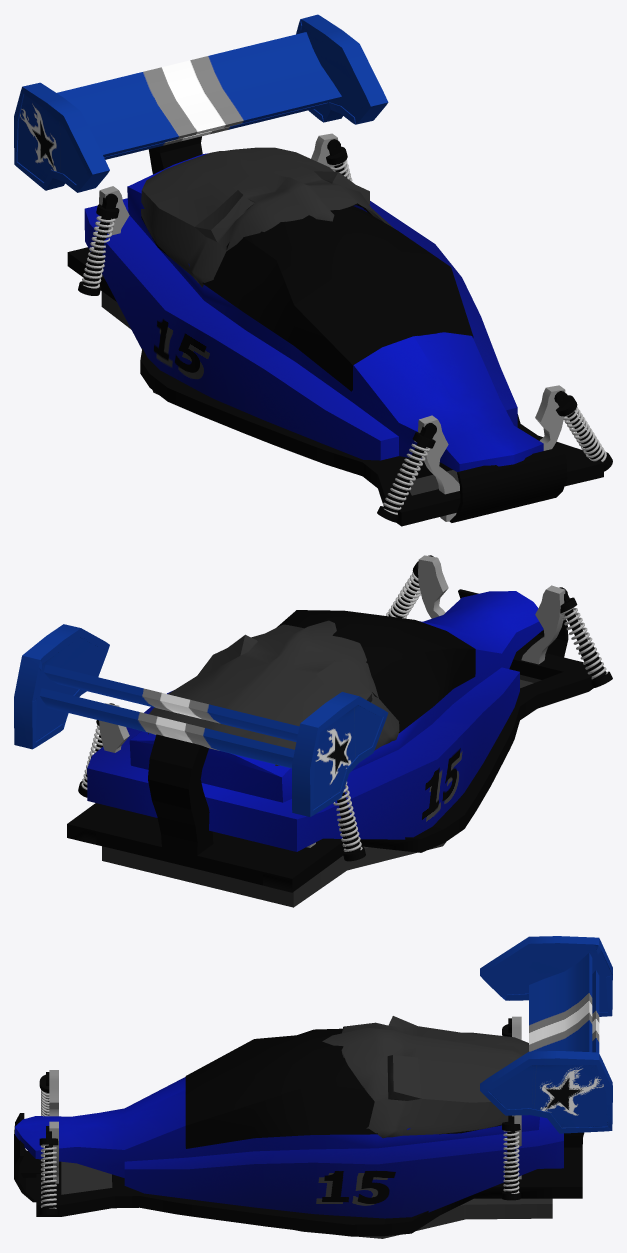
File: bluetop.dae
The picture shows the model from 3 angles, top to bottom: view 1: azimuth 30°, elevation 25°; view 2: azimuth 150°, elevation 25°; view 3: azimuth 270°, elevation 25°; orthographic projection. The views are drawn at different scales.
Visible parts, largest first — view 1: Superficie_1, Aleron, Superficie_2, Carroceria, Aleron_izquierdo1, Defensa, Aleron_izquierdo, Aleron_derecho, RS_1_6, RS_2_6, Resorte_1, Resorte_3 (+2 smaller); view 2: Superficie_1, Carroceria, Superficie_2, Aleron_izquierdo1, Aleron_derecho, Tapa, Aleron, RS_1_6, RS_2_6, Aleron_izquierdo, Resorte_1, Resorte_3 (+3 smaller); view 3: Superficie_1, Superficie_2, Carroceria, Aleron_izquierdo, Aleron_derecho, Aleron_izquierdo1, Aleron, Tapa, Defensa, Resorte_4, Resorte_2, RS_1_6.
Part boxes in pixels (x1,y1,x2,y2): Superficie_1: (84, 153, 543, 471); Aleron: (57, 32, 341, 156); Superficie_2: (141, 147, 393, 287); Carroceria: (67, 102, 603, 526); Aleron_izquierdo1: (14, 82, 109, 192); Defensa: (449, 447, 567, 522); Aleron_izquierdo: (296, 19, 388, 124); Aleron_derecho: (297, 14, 384, 123); RS_1_6: (418, 415, 459, 521); RS_2_6: (535, 385, 565, 450); Resorte_1: (383, 440, 429, 514); Resorte_3: (82, 216, 115, 288); Superficie_1: (87, 591, 543, 851); Carroceria: (40, 648, 593, 892); Superficie_2: (148, 620, 399, 765); Aleron_izquierdo1: (292, 692, 388, 816); Aleron_derecho: (14, 624, 109, 749); Tapa: (102, 674, 541, 907); Aleron: (44, 664, 299, 741); RS_1_6: (521, 585, 565, 664); RS_2_6: (418, 555, 448, 618); Aleron_izquierdo: (14, 624, 106, 748); Resorte_1: (561, 607, 607, 679); Resorte_3: (333, 781, 362, 851); Superficie_1: (15, 1028, 563, 1218); Superficie_2: (322, 1016, 528, 1138); Carroceria: (36, 970, 599, 1236); Aleron_izquierdo: (480, 1051, 612, 1133); Aleron_derecho: (480, 1051, 612, 1133); Aleron_izquierdo1: (480, 936, 612, 1016); Aleron: (529, 953, 592, 1052); Tapa: (61, 1161, 552, 1238); Defensa: (14, 1113, 40, 1202); Resorte_4: (503, 1130, 519, 1193); Resorte_2: (41, 1144, 56, 1208); RS_1_6: (49, 1070, 58, 1116).
Size of the model in its own units: 0.5881 by 1.21 by 0.4878.
Materials: 10 (8 with a texture image).
